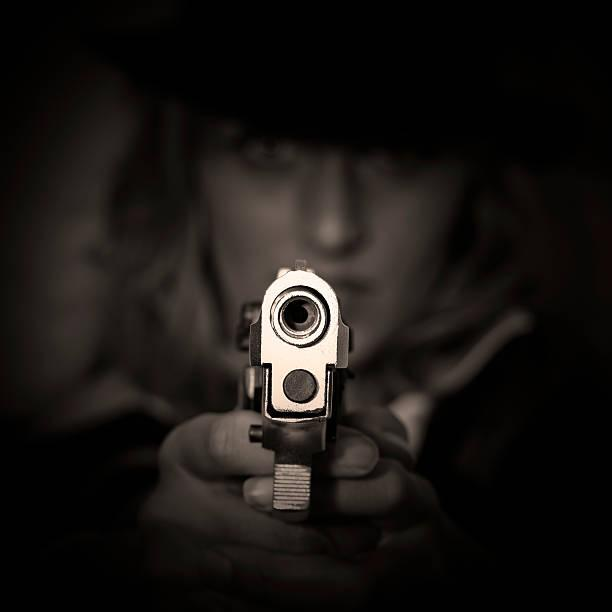weapon: (231, 265, 358, 509)
